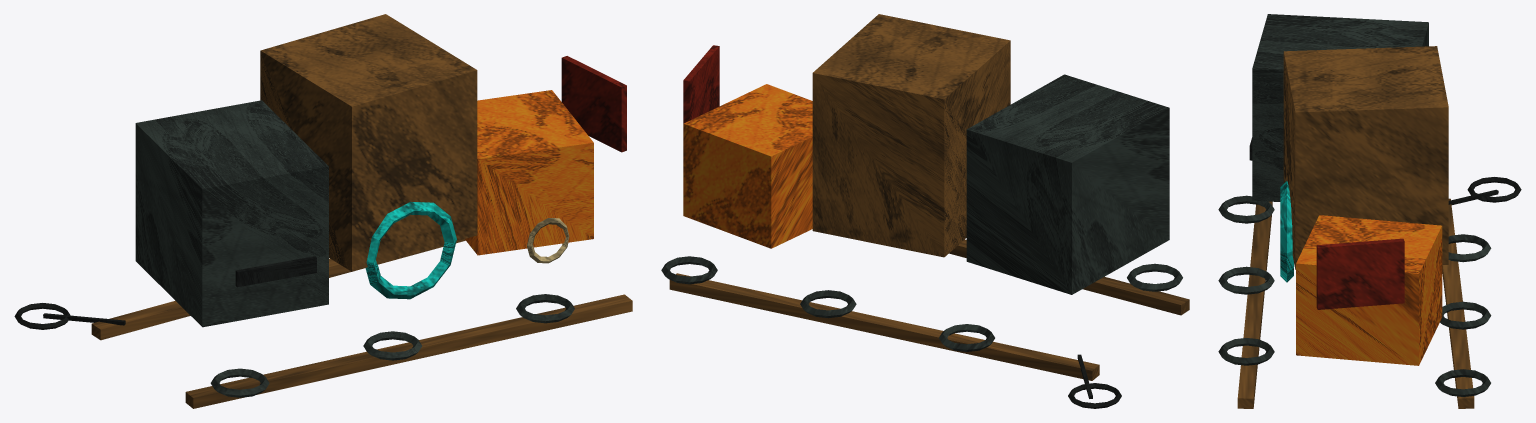
Rendered from expired-appliance-convoy.glb.
The picture shows the model from 3 angles, left to right: view 1: azimuth 30°, elevation 25°; view 2: azimuth 150°, elevation 25°; view 3: azimuth 270°, elevation 25°; orthographic projection. The views are drawn at different scales.
Parts seen in each view (by area): view 1: expired-appliance-convoy; view 2: expired-appliance-convoy; view 3: expired-appliance-convoy.
Part boxes in pixels (box(x1,y1,x2,y2)): expired-appliance-convoy: box(14, 14, 632, 408); expired-appliance-convoy: box(661, 14, 1189, 408); expired-appliance-convoy: box(1218, 14, 1521, 408).
Bounding box in the file's own units: 9.97 × 4.61 × 5.32.
1 material, 1 textured.
